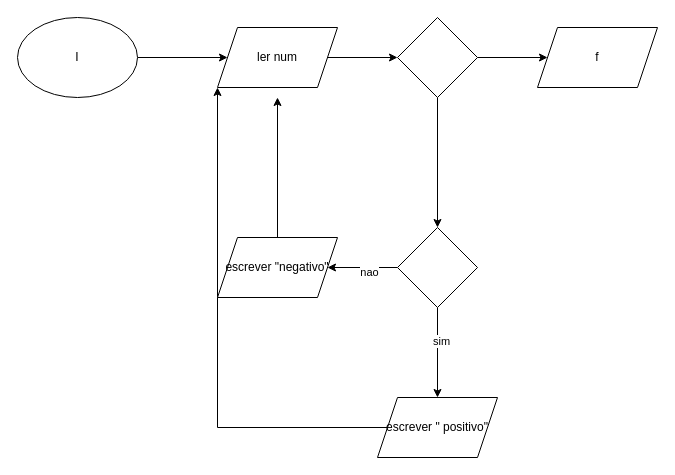
The diagram is 675 pixels wide and 475 high, and some of its shapes have lost their labels. Each missing label, with the centre of its shape:
"num = 0" belongs at (x=437, y=57).
"num > 0" belongs at (x=437, y=267).
